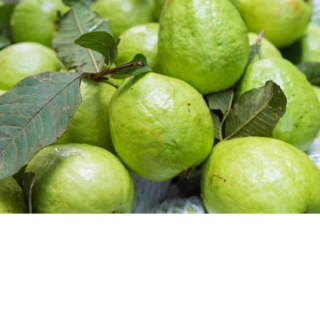oi: (100, 57, 221, 180)
